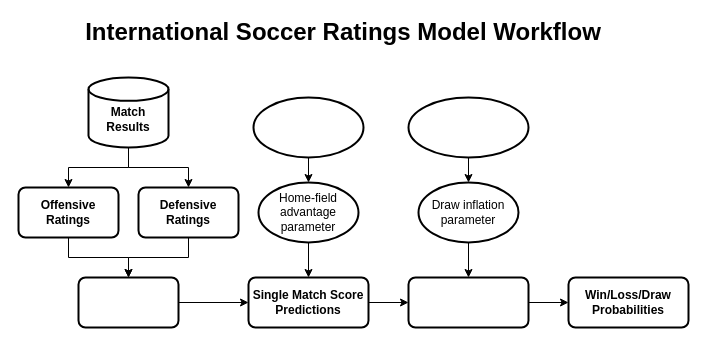
Image size: 706x345. Some labels were removed from this diagram. Here are the shapes that lost their labels. From the top down, the centre of each, then its label:
At point (308, 127): "Goals per game parameter".
At point (468, 127): "Bivariate Poisson distribution".
At point (128, 302): "Team Ratings".
At point (468, 302): "Match Result Distributions".
